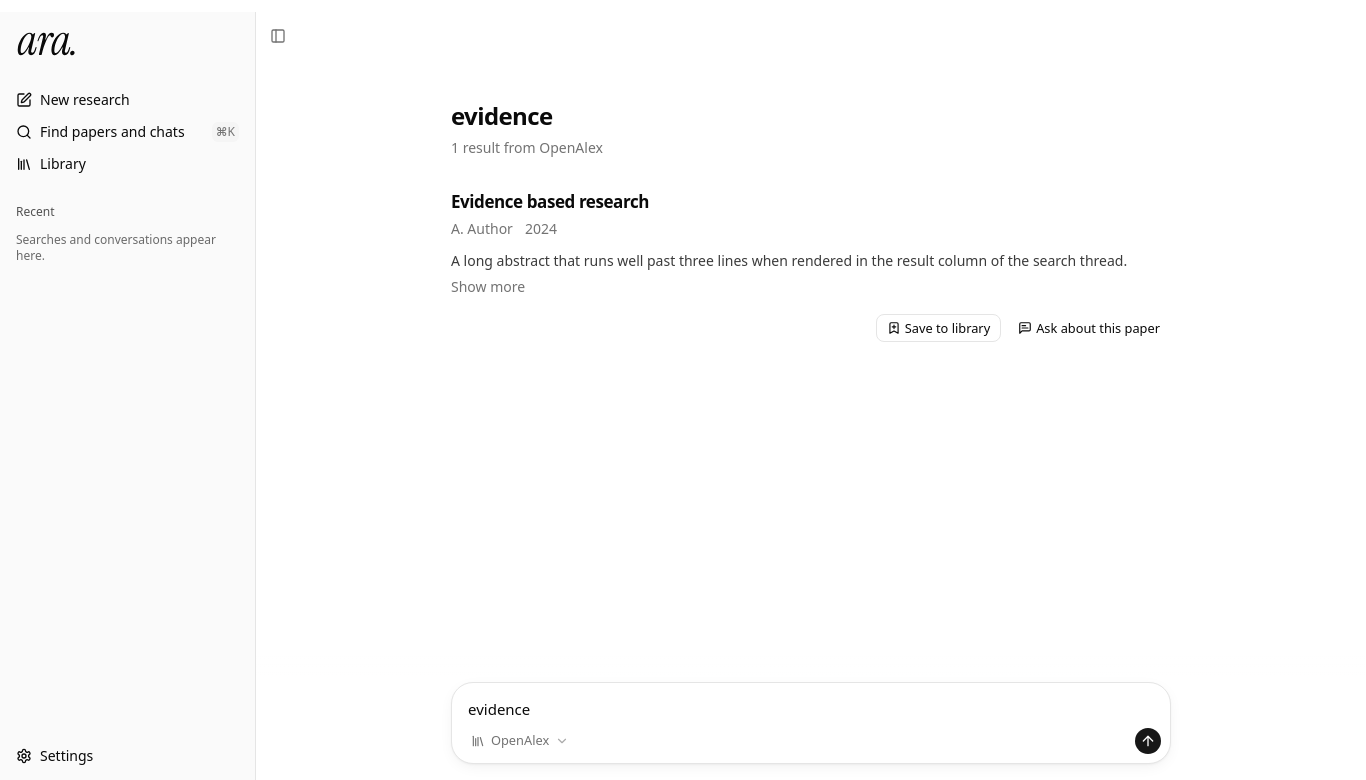
Test case: abstract clamping › Given an abstract taller than three lines, When Show more and Show less are pressed, Then it expands and clamps again
The image size is (1366, 780).
Click the button "Show more". click: (488, 287)
box: [451,277,525,297]
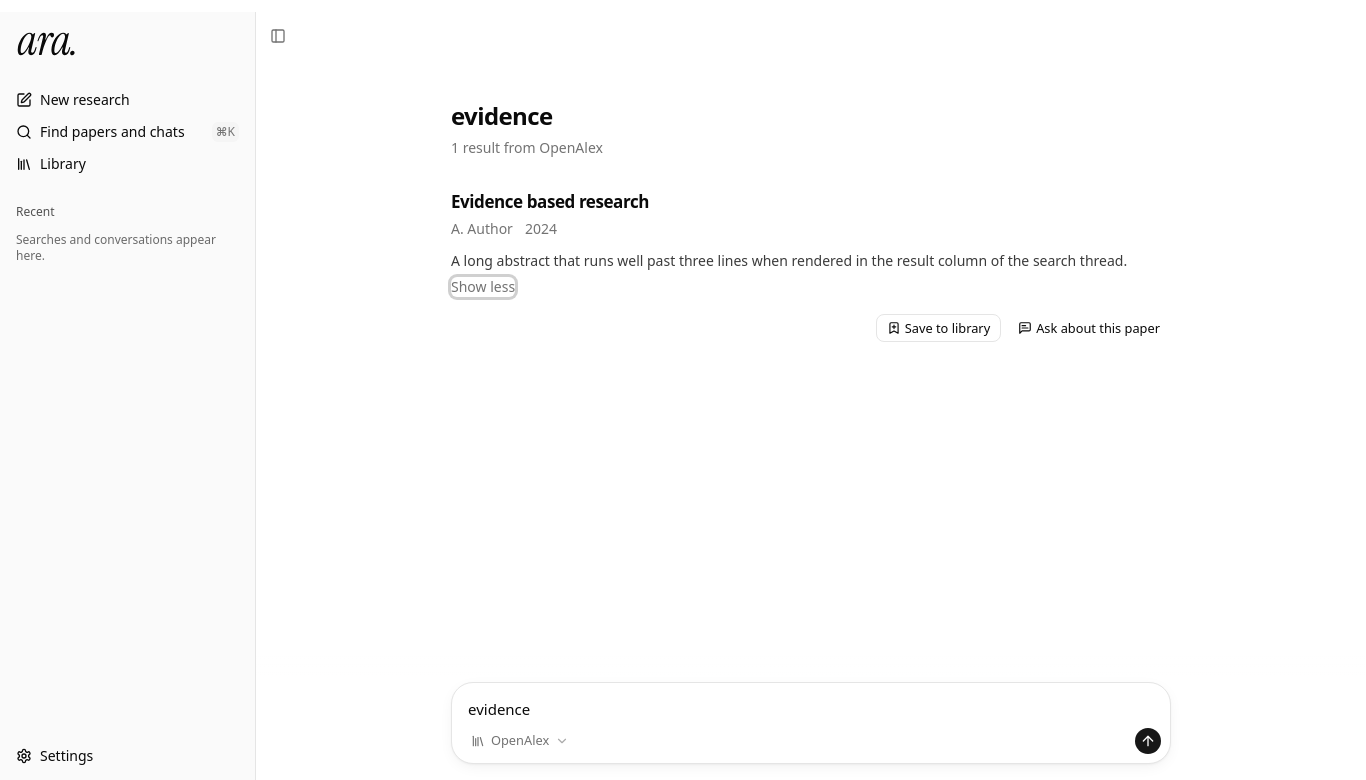
Now the button "Show less" is expanded
Click the button "Show less". click: (483, 287)
box: [451,277,515,297]
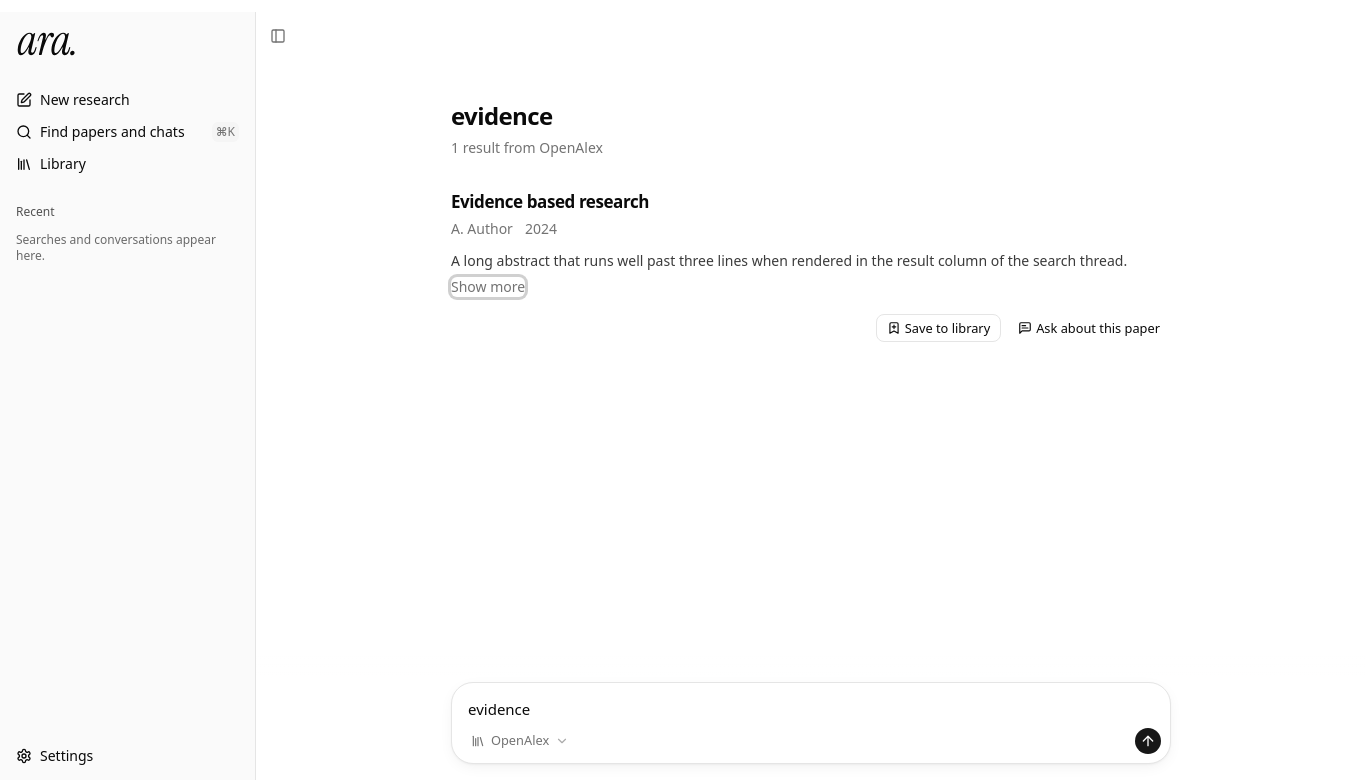
Now the button "Show more" is collapsed, box [451,277,525,297]
